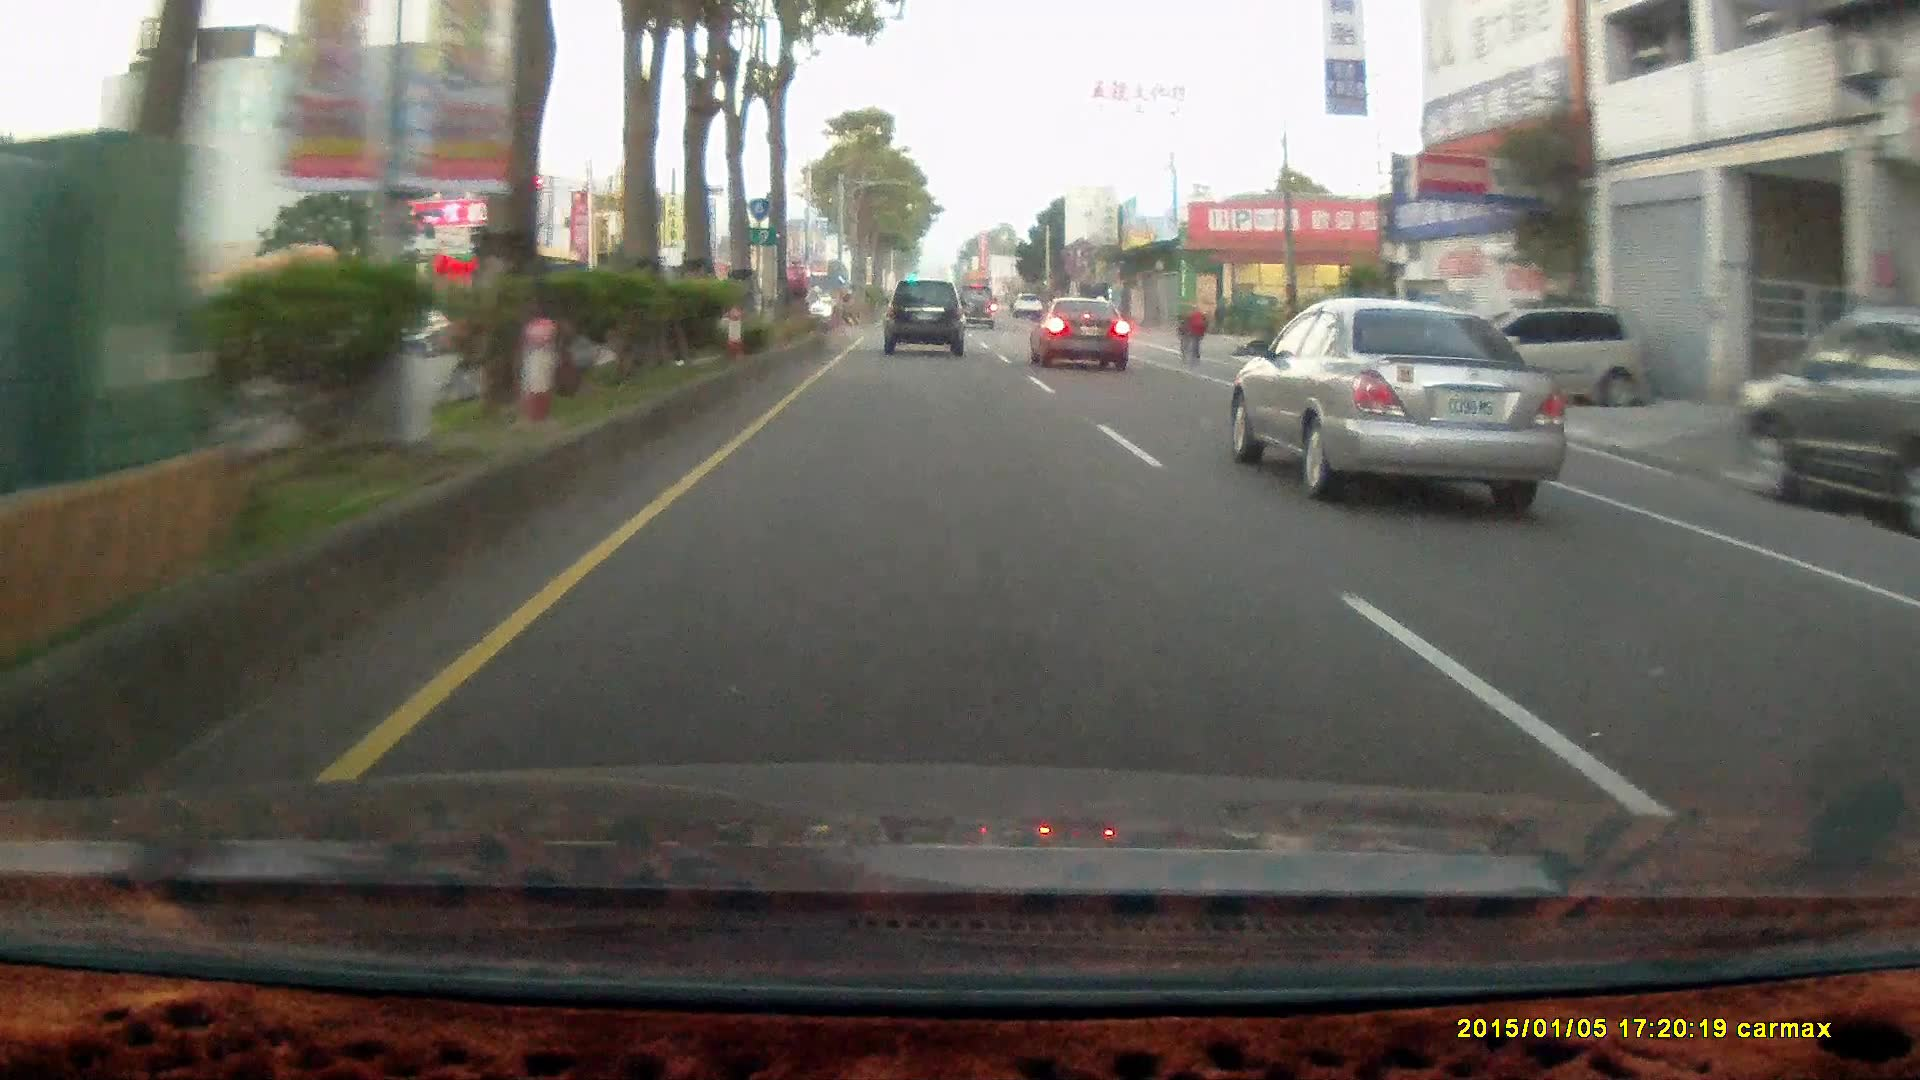pedestrian: (1184, 299, 1207, 358), (1186, 302, 1208, 359)
vehicle: (1238, 298, 1569, 501), (1729, 298, 1920, 535), (1726, 298, 1920, 530), (1451, 302, 1652, 407), (1456, 304, 1653, 409), (1028, 297, 1133, 373), (1027, 293, 1128, 370), (882, 282, 971, 358), (882, 278, 963, 353), (957, 280, 996, 326)
